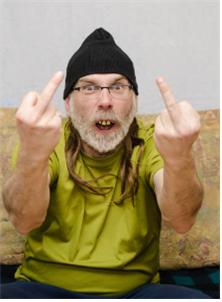insulting_gesture: (13, 70, 65, 166), (151, 78, 202, 170)
